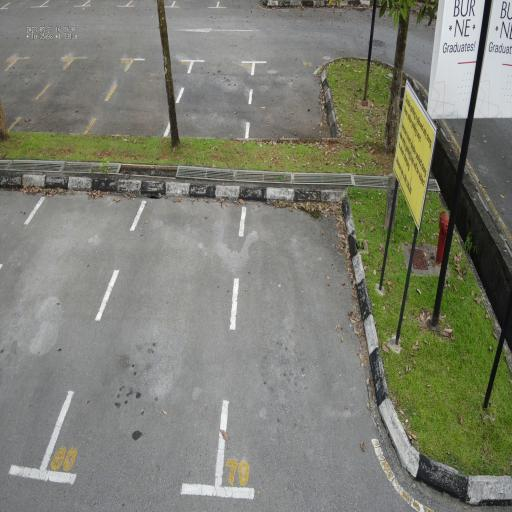Empty: (35, 184, 250, 502), (210, 172, 411, 512)
